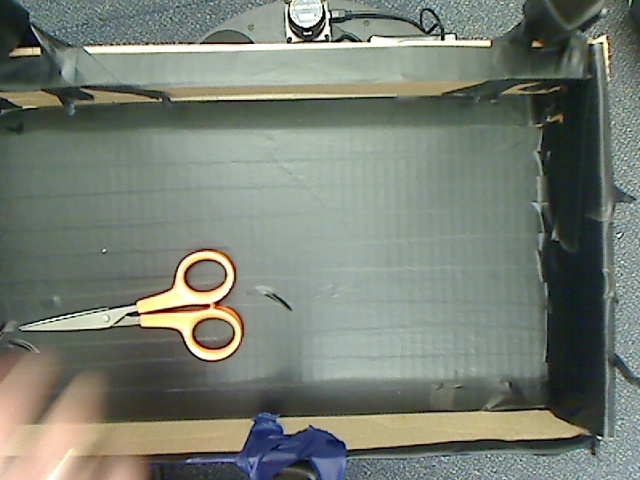scissors: (10, 239, 260, 373)
